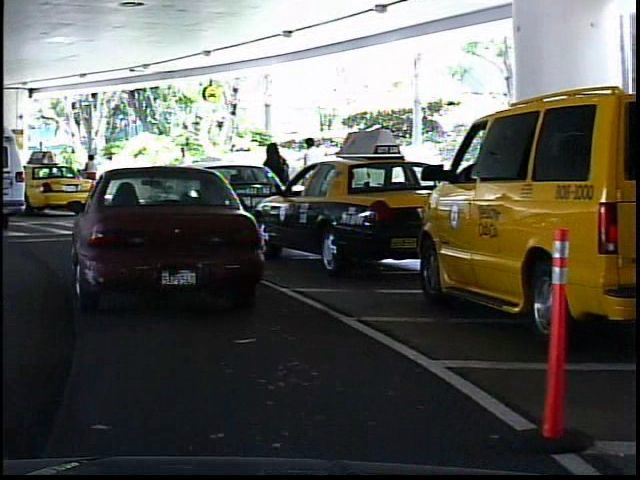person: (258, 136, 293, 222), (296, 132, 327, 214), (171, 141, 196, 204), (78, 149, 101, 196)
